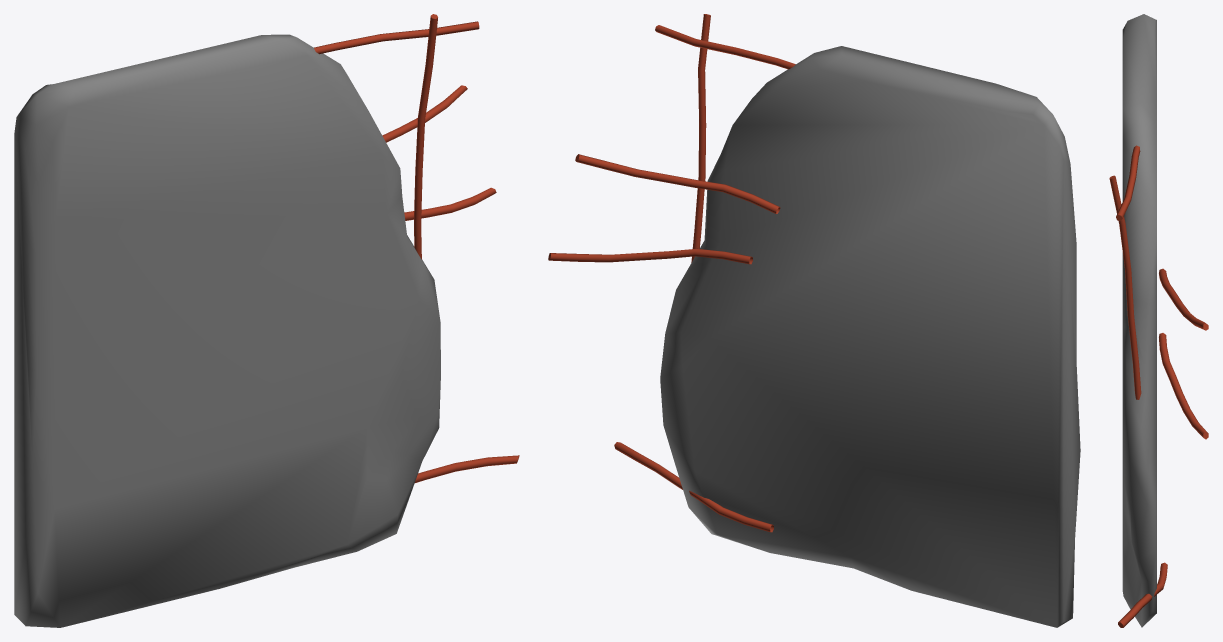
File: SM_wall_broken_01.fbx
3 renders of one model, left to right at view 1: azimuth 30°, elevation 25°; view 2: azimuth 150°, elevation 25°; view 3: azimuth 270°, elevation 25°, orthographic. The views are drawn at different scales.
Parts seen in each view (by area): view 1: Object019; view 2: Object019; view 3: Object019.
Boxes of the visible parts, <box> form: Object019: <box>14,14,519,627</box>; Object019: <box>548,14,1080,627</box>; Object019: <box>1109,14,1208,627</box>.
Size of the model in its own units: 138 by 138 by 26.47.
